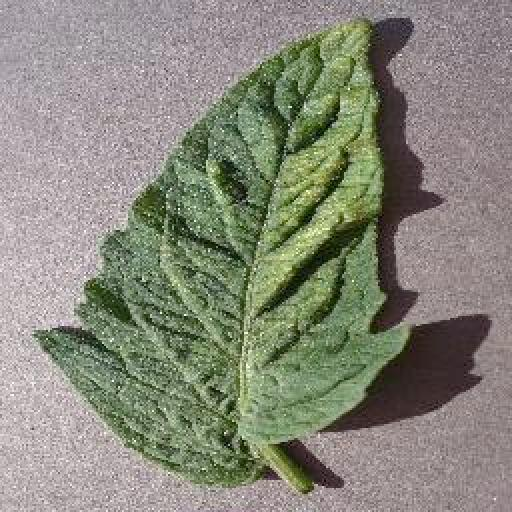disease_tomato: (38, 12, 410, 490)
